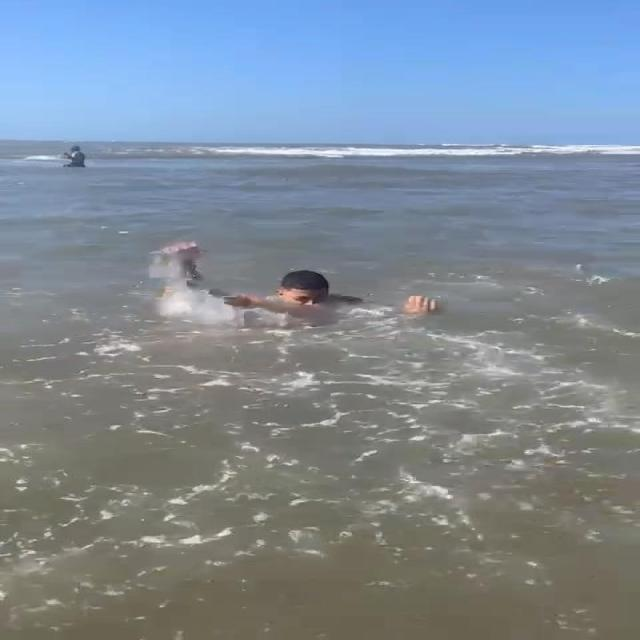Out of Water: (154, 240, 449, 325)
